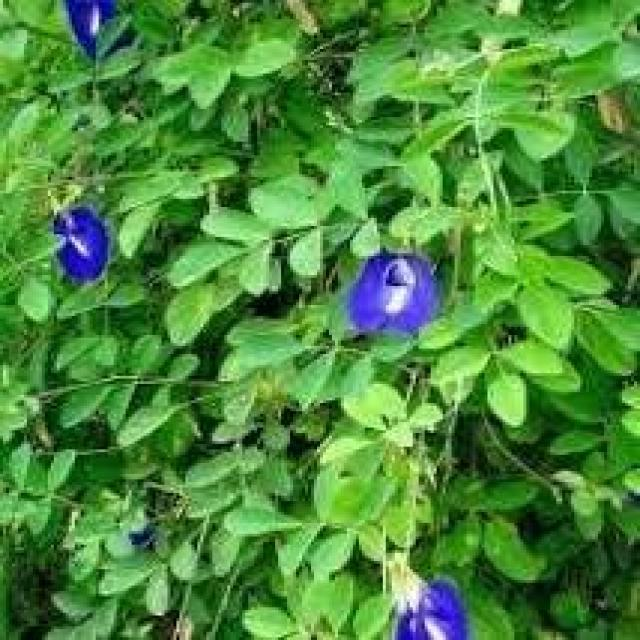organic waste: (356, 243, 443, 344), (42, 183, 122, 284), (381, 587, 477, 636), (68, 0, 138, 63)
